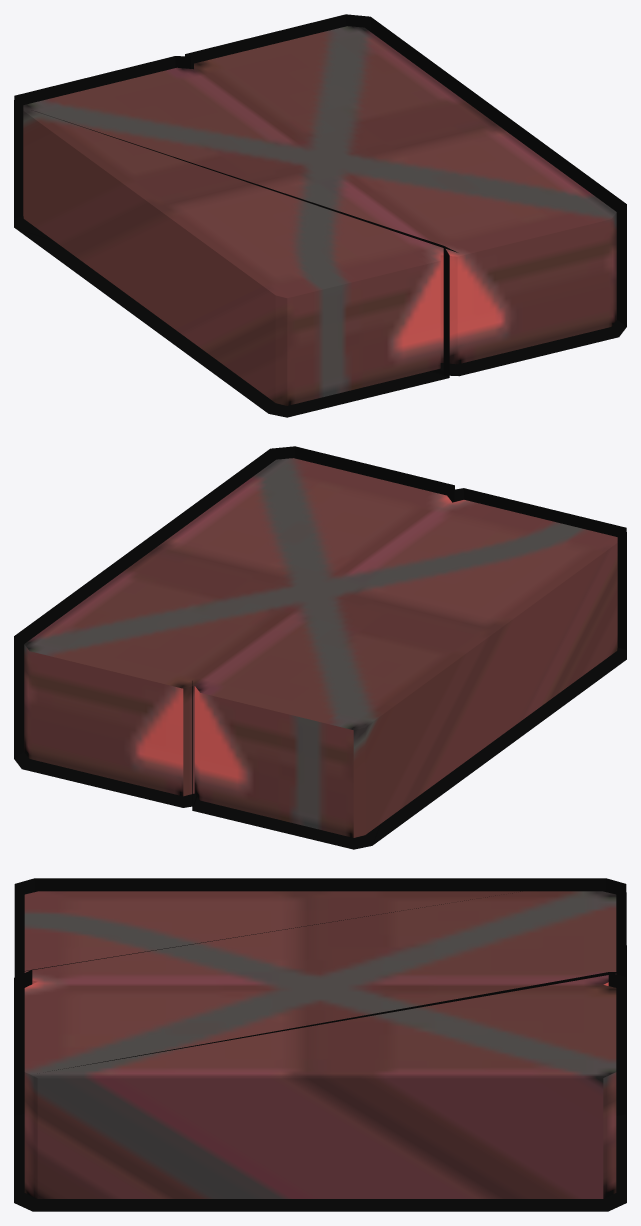
File: Building_AncientMiningCharge_Things_Building_Ancient_MiningCharge_AncientMiningChargeC.glb
3 renders of one model, top to bottom at view 1: azimuth 30°, elevation 25°; view 2: azimuth 150°, elevation 25°; view 3: azimuth 270°, elevation 25°, orthographic. The views are drawn at different scales.
Parts seen in each view (by area): view 1: Body, Outline; view 2: Body, Outline; view 3: Body, Outline.
Part boxes in pixels (left/top/right/bottom): Body: left=23, top=26, right=616, bottom=405; Outline: left=14, top=14, right=626, bottom=417; Body: left=24, top=458, right=617, bottom=837; Outline: left=14, top=446, right=626, bottom=849; Body: left=24, top=891, right=616, bottom=1198; Outline: left=14, top=878, right=626, bottom=1211.
Bounding box in the file's own units: 0.9826 × 0.3409 × 1.3.
2 materials, 1 textured.
